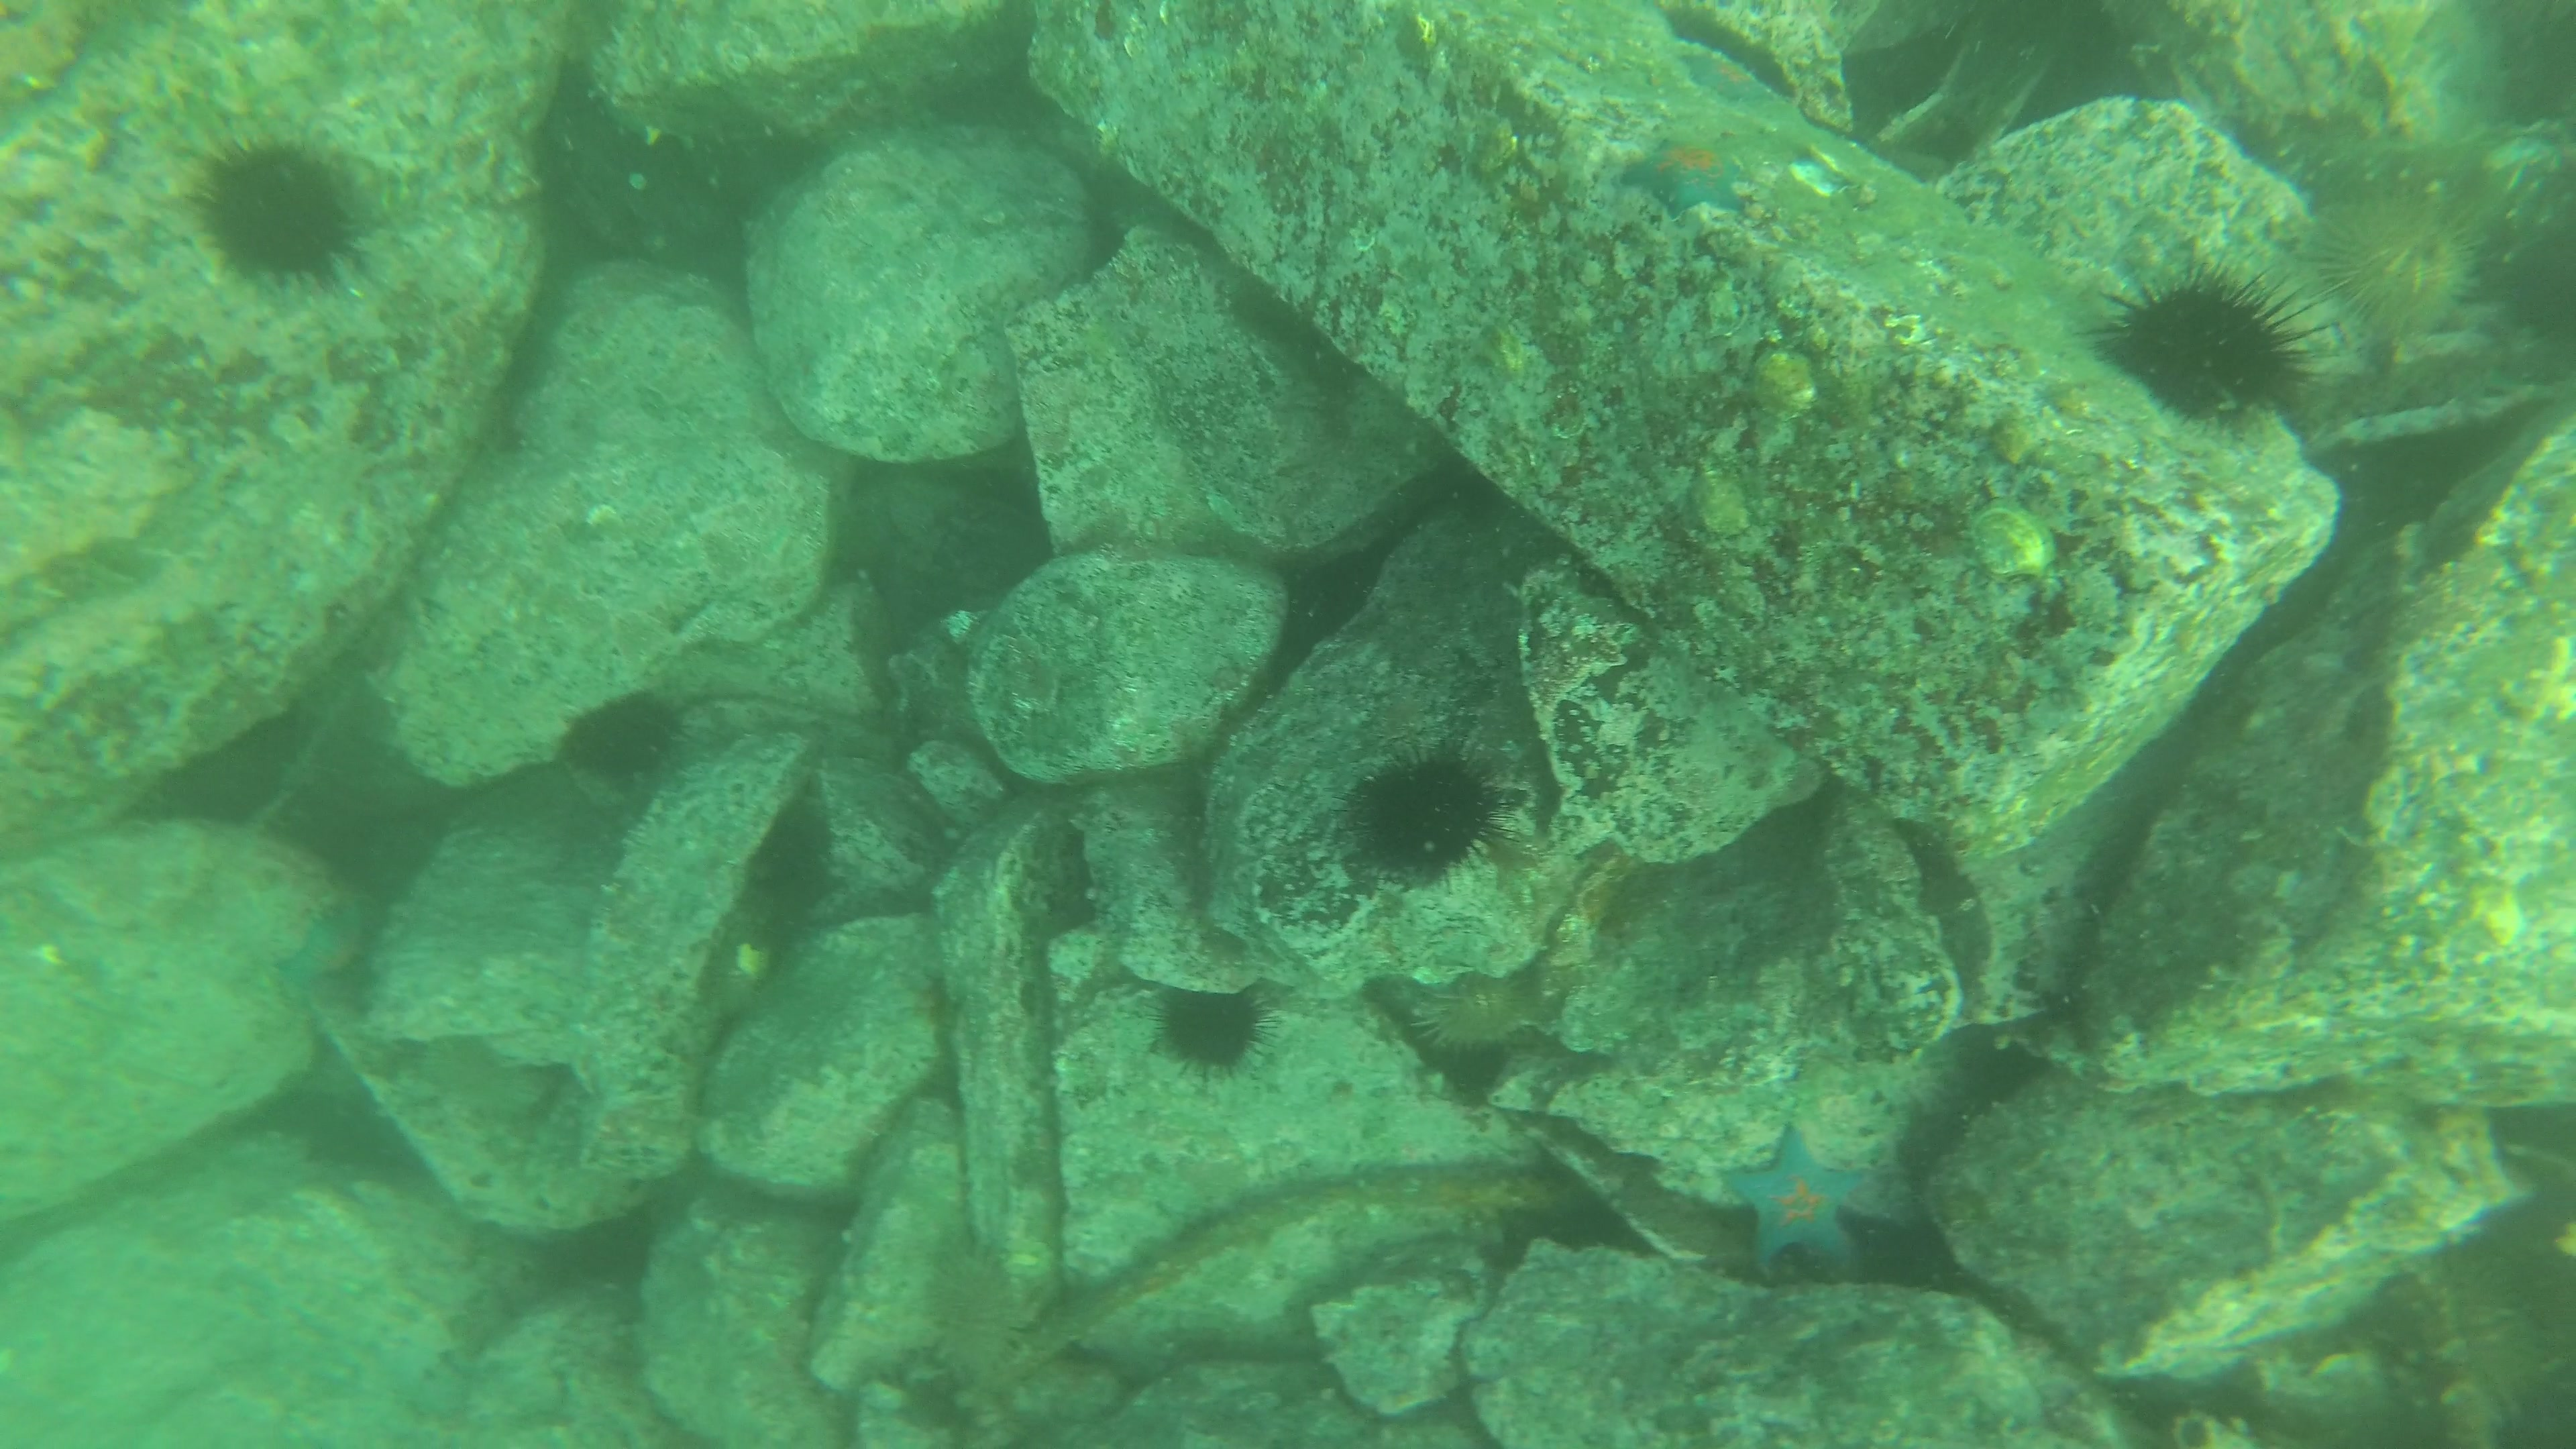echinus: (2111, 288, 2309, 419), (203, 147, 357, 280), (2327, 196, 2479, 327), (1357, 755, 1493, 869), (1159, 984, 1279, 1077), (566, 694, 678, 784)
starfish: (1714, 1125, 1897, 1286), (1624, 129, 1752, 218), (1679, 42, 1780, 111)
